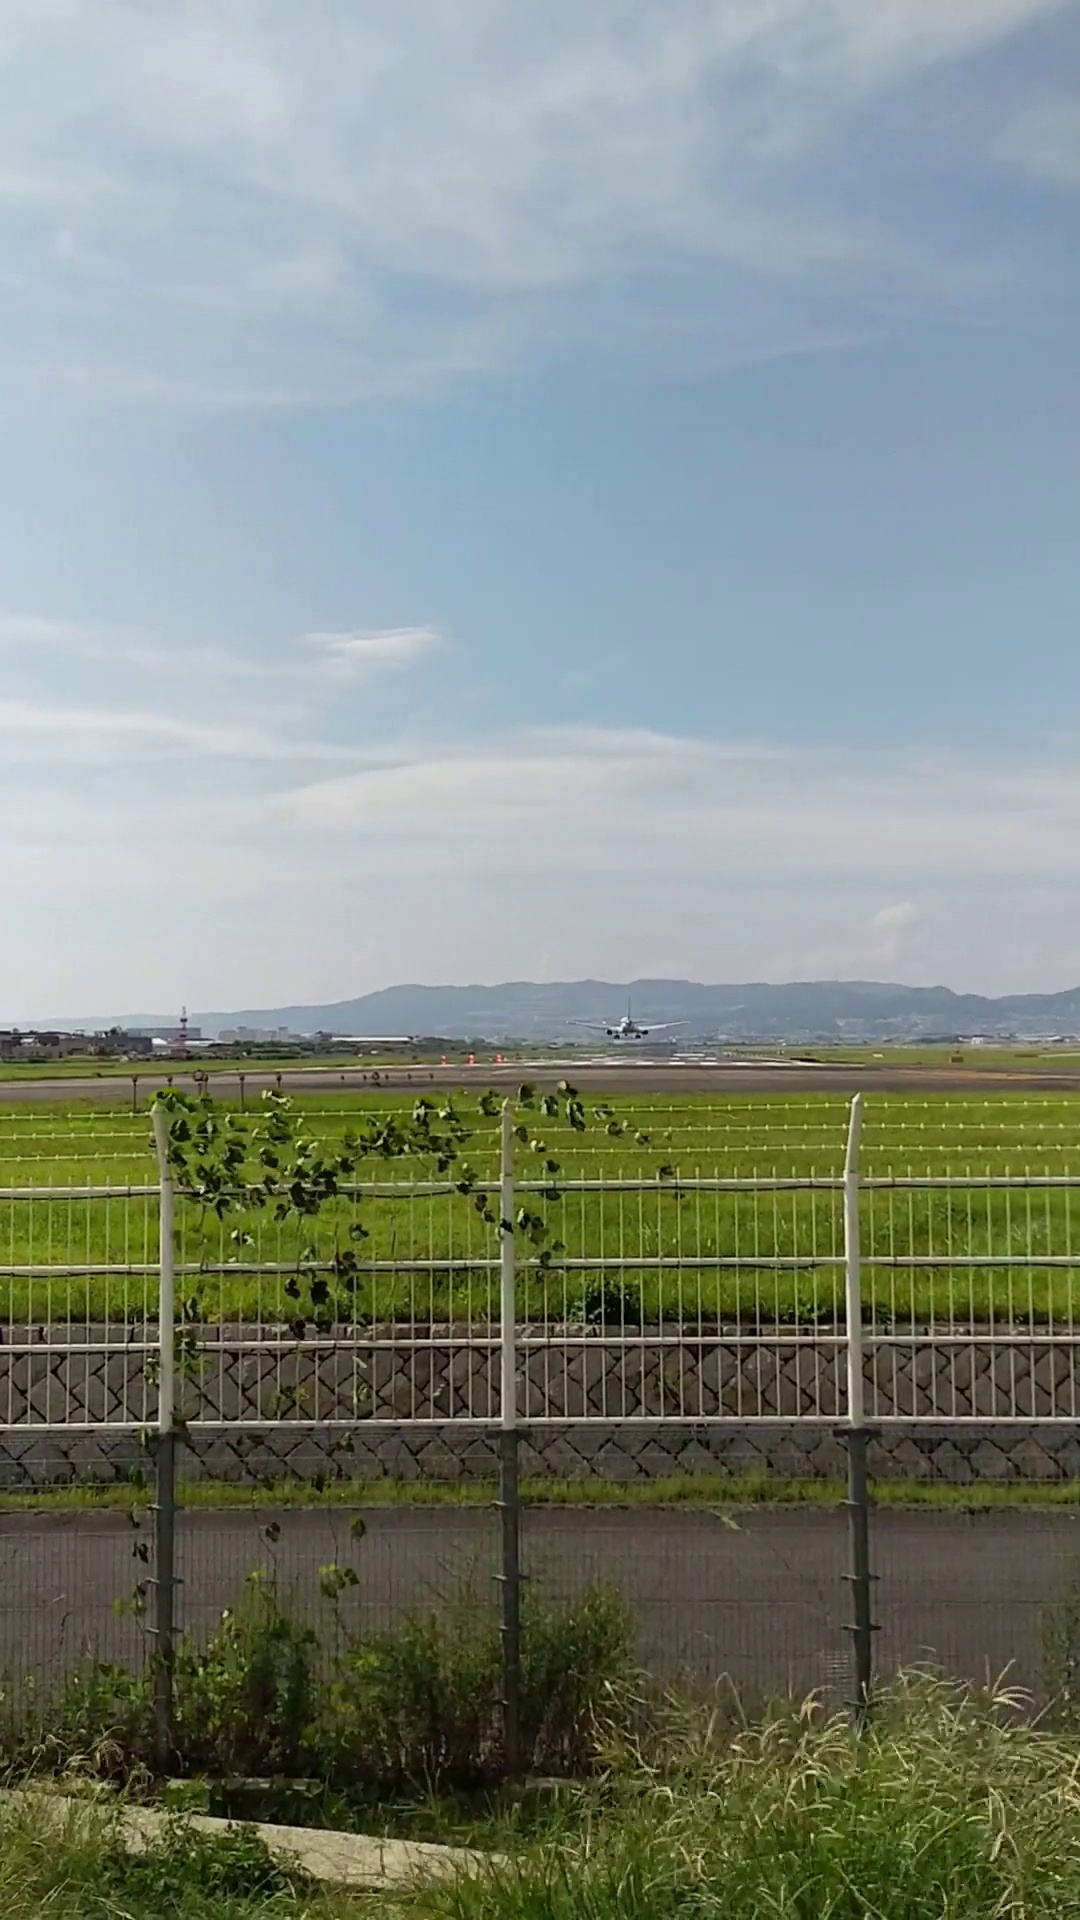plane: (562, 994, 691, 1040)
